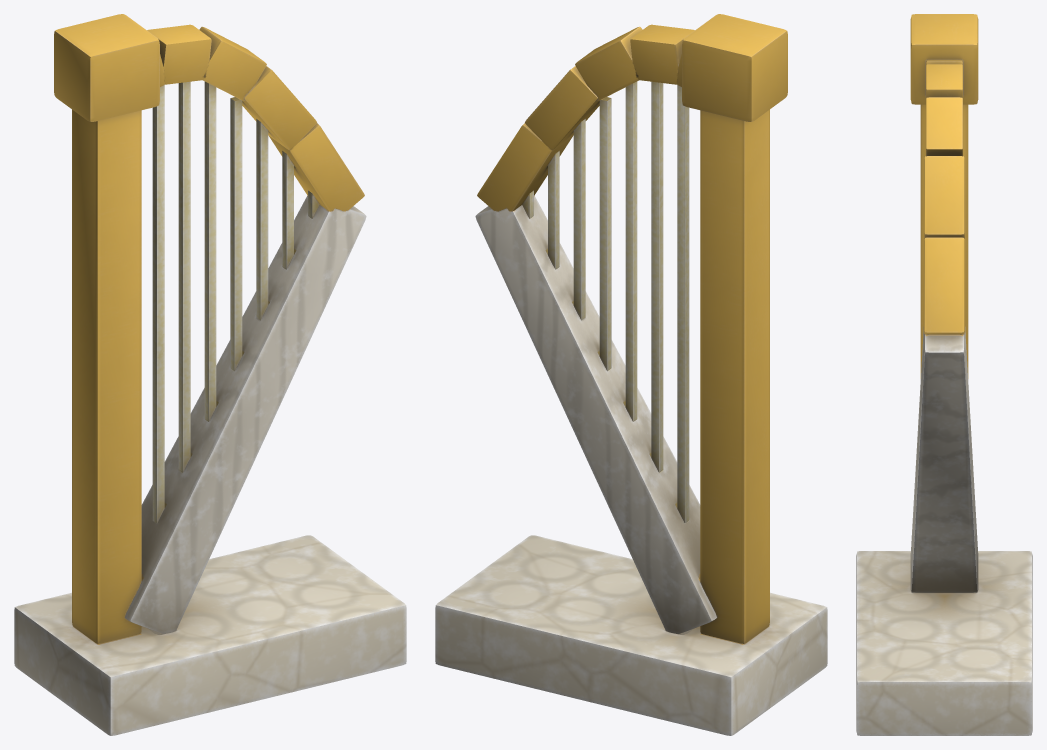
Rendered from Divin_Harpe.fbx.
The picture shows the model from 3 angles, left to right: view 1: azimuth 30°, elevation 25°; view 2: azimuth 150°, elevation 25°; view 3: azimuth 270°, elevation 25°; orthographic projection. The views are drawn at different scales.
Visible parts, largest first — view 1: Divin_Harpe; view 2: Divin_Harpe; view 3: Divin_Harpe.
Part boxes in pixels (<box>): Divin_Harpe: <box>14,14,406,735</box>; Divin_Harpe: <box>435,14,827,735</box>; Divin_Harpe: <box>856,14,1032,735</box>.
Size of the model in its own units: 460 by 970 by 260.
1 material, 1 textured.
